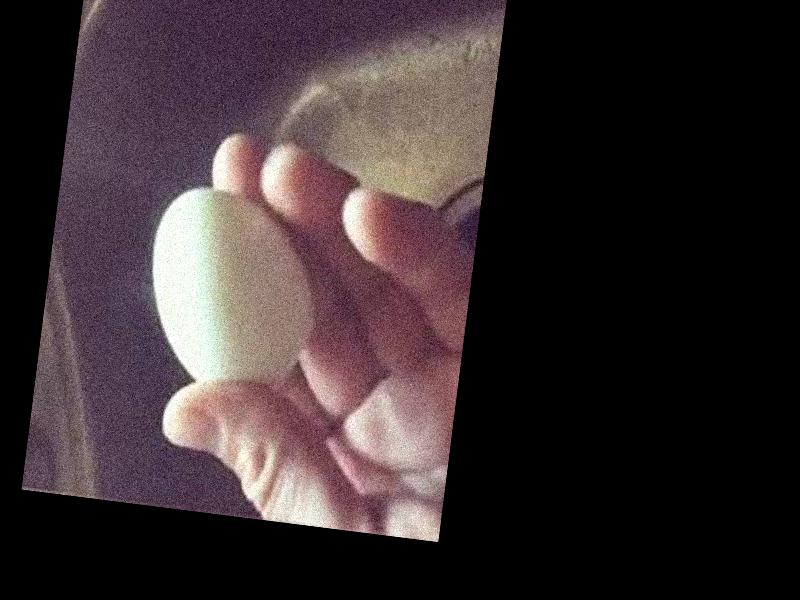Eggs: (137, 186, 322, 398)
